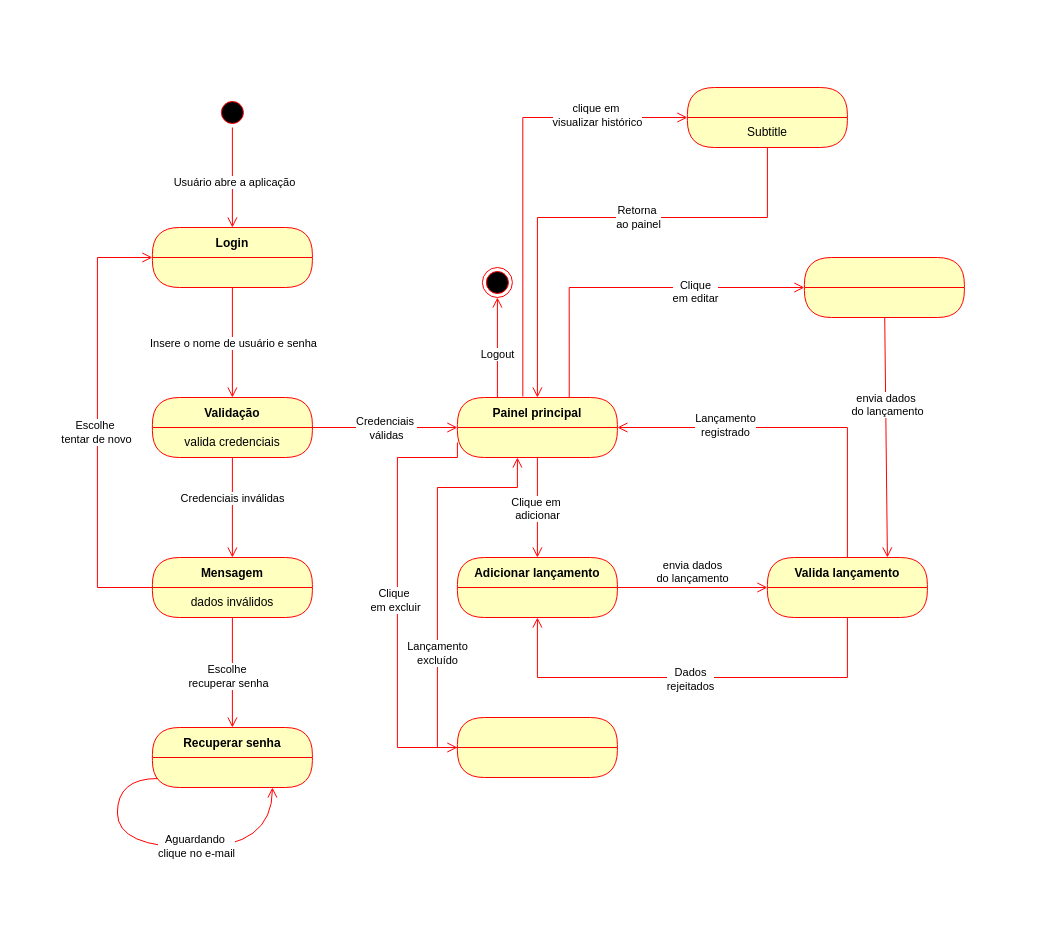
The diagram is 1055 pixels wide and 925 high, and some of its shapes have lost their labels. Here are the shapes that lost their labels. From the top down, the box of each, then its label:
(686, 86, 847, 148): Visualizar histórico
(803, 256, 964, 318): Editar lançamento
(456, 716, 617, 778): Deletar lançamento
